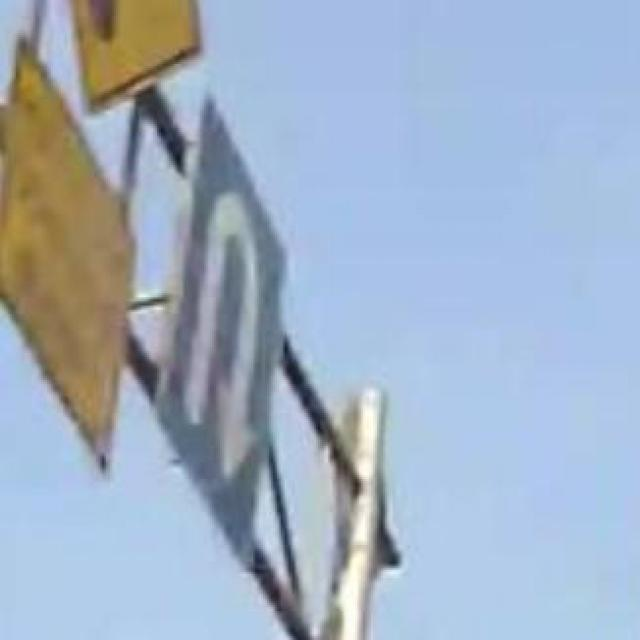traffic sign: (159, 95, 277, 574)
